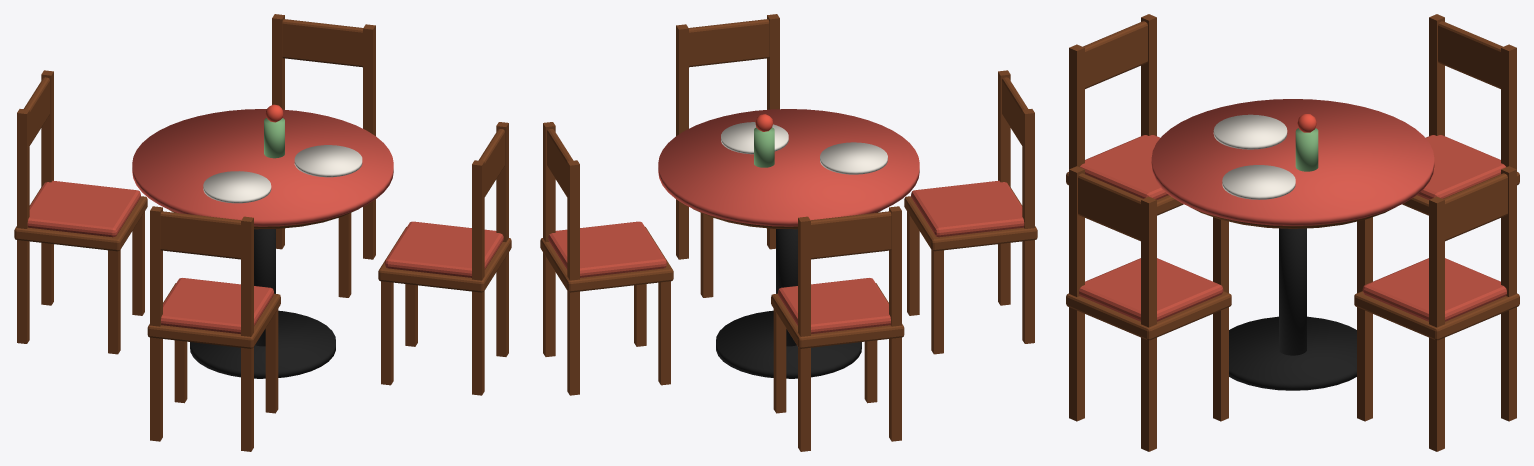
The model's file is tischgruppe.glb.
3 renders of one model, left to right at view 1: azimuth 30°, elevation 25°; view 2: azimuth 150°, elevation 25°; view 3: azimuth 270°, elevation 25°, orthographic. The views are drawn at different scales.
Visible parts, largest first — view 1: Cylinder, Cube.017, Cylinder.003, Cube.035, Cube.026, Cube.007, Cube.025, Cube.027, Cube.009, Cube.018, Cylinder.006, Cylinder.005 (+26 smaller); view 2: Cylinder, Cube.026, Cylinder.003, Cube.008, Cube.017, Cube.034, Cube.016, Cube, Cube.018, Cube.009, Cylinder.005, Cube.005 (+26 smaller); view 3: Cylinder, Cylinder.003, Cube.008, Cube.035, Cylinder.002, Cube.017, Cube.026, Cube.007, Cube.016, Cube.025, Cube.034, Cube (+21 smaller).
Part boxes in pixels (x1,y1,x2,y2): Cylinder: [132, 109, 393, 226]; Cube.017: [27, 180, 140, 237]; Cylinder.003: [190, 310, 335, 378]; Cube.035: [385, 221, 503, 277]; Cube.026: [161, 278, 273, 333]; Cube.007: [282, 19, 374, 67]; Cube.025: [160, 211, 252, 259]; Cube.027: [378, 227, 511, 292]; Cube.009: [14, 187, 147, 251]; Cube.018: [147, 283, 280, 348]; Cylinder.006: [294, 145, 362, 177]; Cylinder.005: [203, 171, 271, 203]; Cylinder: [658, 109, 919, 226]; Cube.026: [911, 180, 1024, 237]; Cylinder.003: [716, 310, 861, 378]; Cube.008: [548, 221, 666, 277]; Cube.017: [778, 278, 890, 333]; Cube.034: [689, 19, 769, 67]; Cube.016: [811, 211, 891, 259]; Cube: [540, 227, 673, 292]; Cube.018: [904, 187, 1037, 251]; Cube.009: [771, 283, 904, 348]; Cylinder.005: [820, 142, 887, 174]; Cube.005: [567, 160, 579, 280]; Cylinder: [1151, 99, 1434, 225]; Cylinder.003: [1229, 316, 1356, 390]; Cube.008: [1362, 258, 1506, 321]; Cube.035: [1079, 258, 1223, 321]; Cylinder.002: [1279, 228, 1306, 355]; Cube.017: [1417, 135, 1505, 199]; Cube.026: [1080, 135, 1168, 199]; Cube.007: [1432, 173, 1507, 242]; Cube.016: [1438, 21, 1513, 90]; Cube.025: [1072, 21, 1147, 89]; Cube.034: [1078, 173, 1153, 242]; Cube: [1354, 291, 1519, 340].
Bounding box in the file's own units: 1.6 × 0.985 × 1.6.
